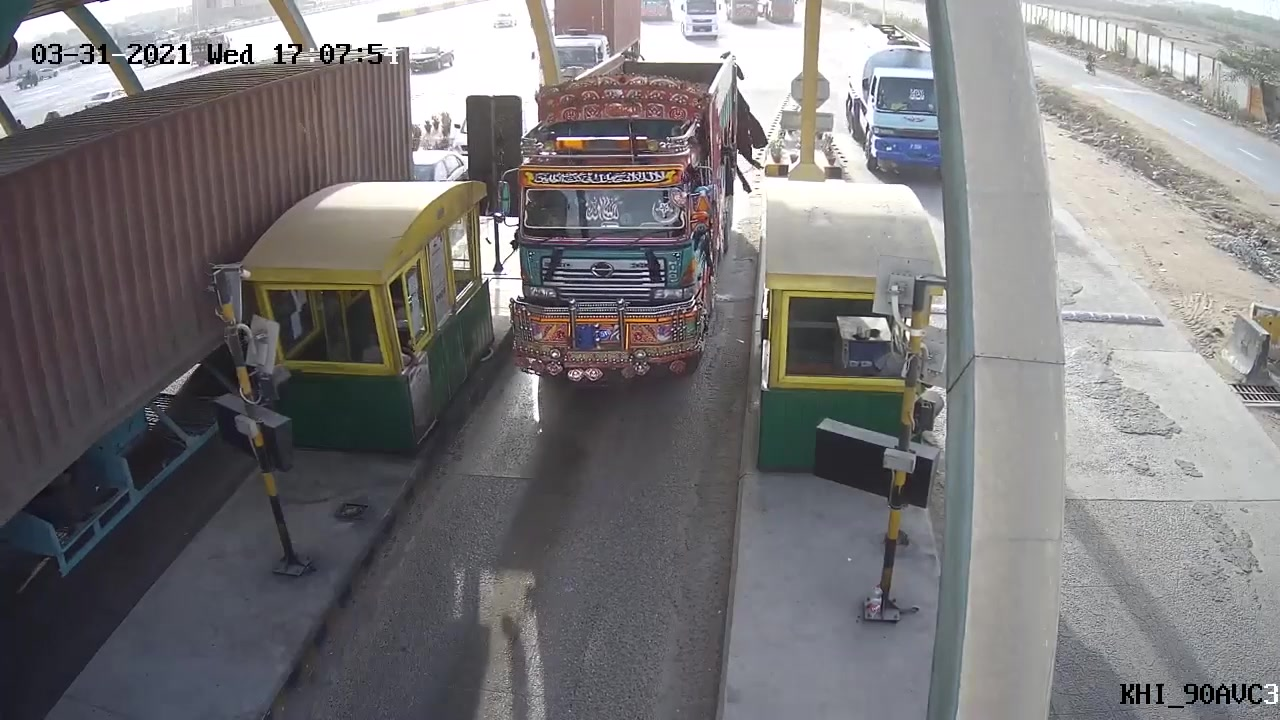F5: (499, 52, 746, 391)
